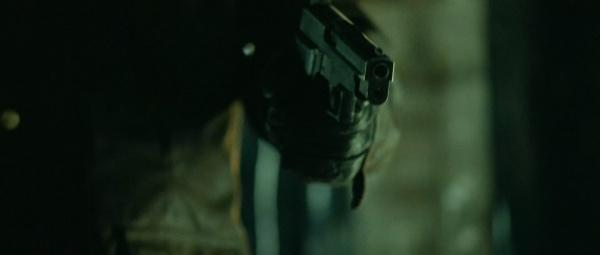Gun: (293, 0, 393, 122)
